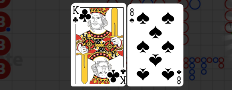8C: (175, 68, 182, 85)
KC: (71, 4, 81, 26)
